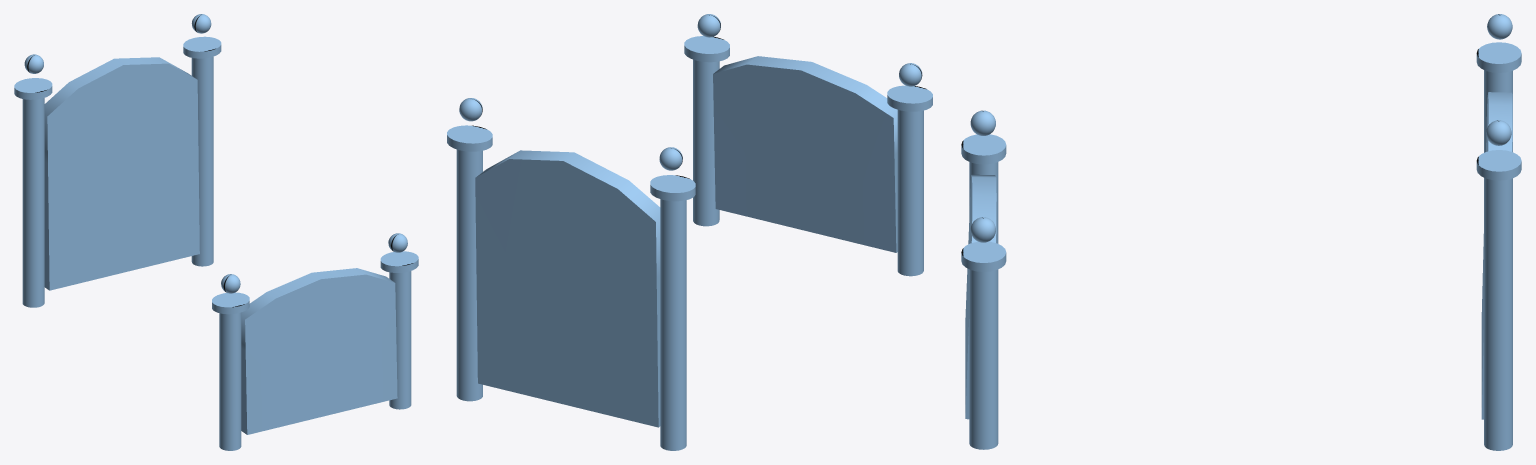
Rendered from cabecera.obj.
3 views of the same model, side by side, from view 1: azimuth 30°, elevation 25°; view 2: azimuth 150°, elevation 25°; view 3: azimuth 270°, elevation 25° (orthographic). The views are drawn at different scales.
Visible parts, largest first — view 1: cabeceras; view 2: cabeceras; view 3: cabeceras.
Boxes of the visible parts, <box> form: cabeceras: <box>14,14,418,450</box>; cabeceras: <box>447,14,932,450</box>; cabeceras: <box>961,14,1521,450</box>.
Bounding box in the file's own units: 1.04 × 1.21 × 1.9.
